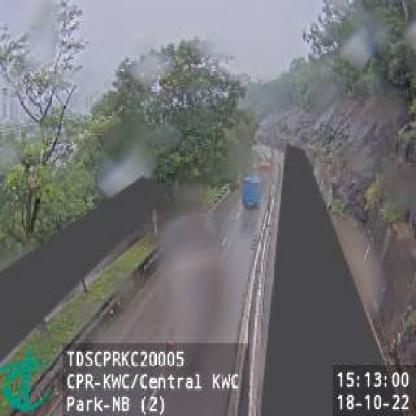Truck: (241, 172, 266, 209)
